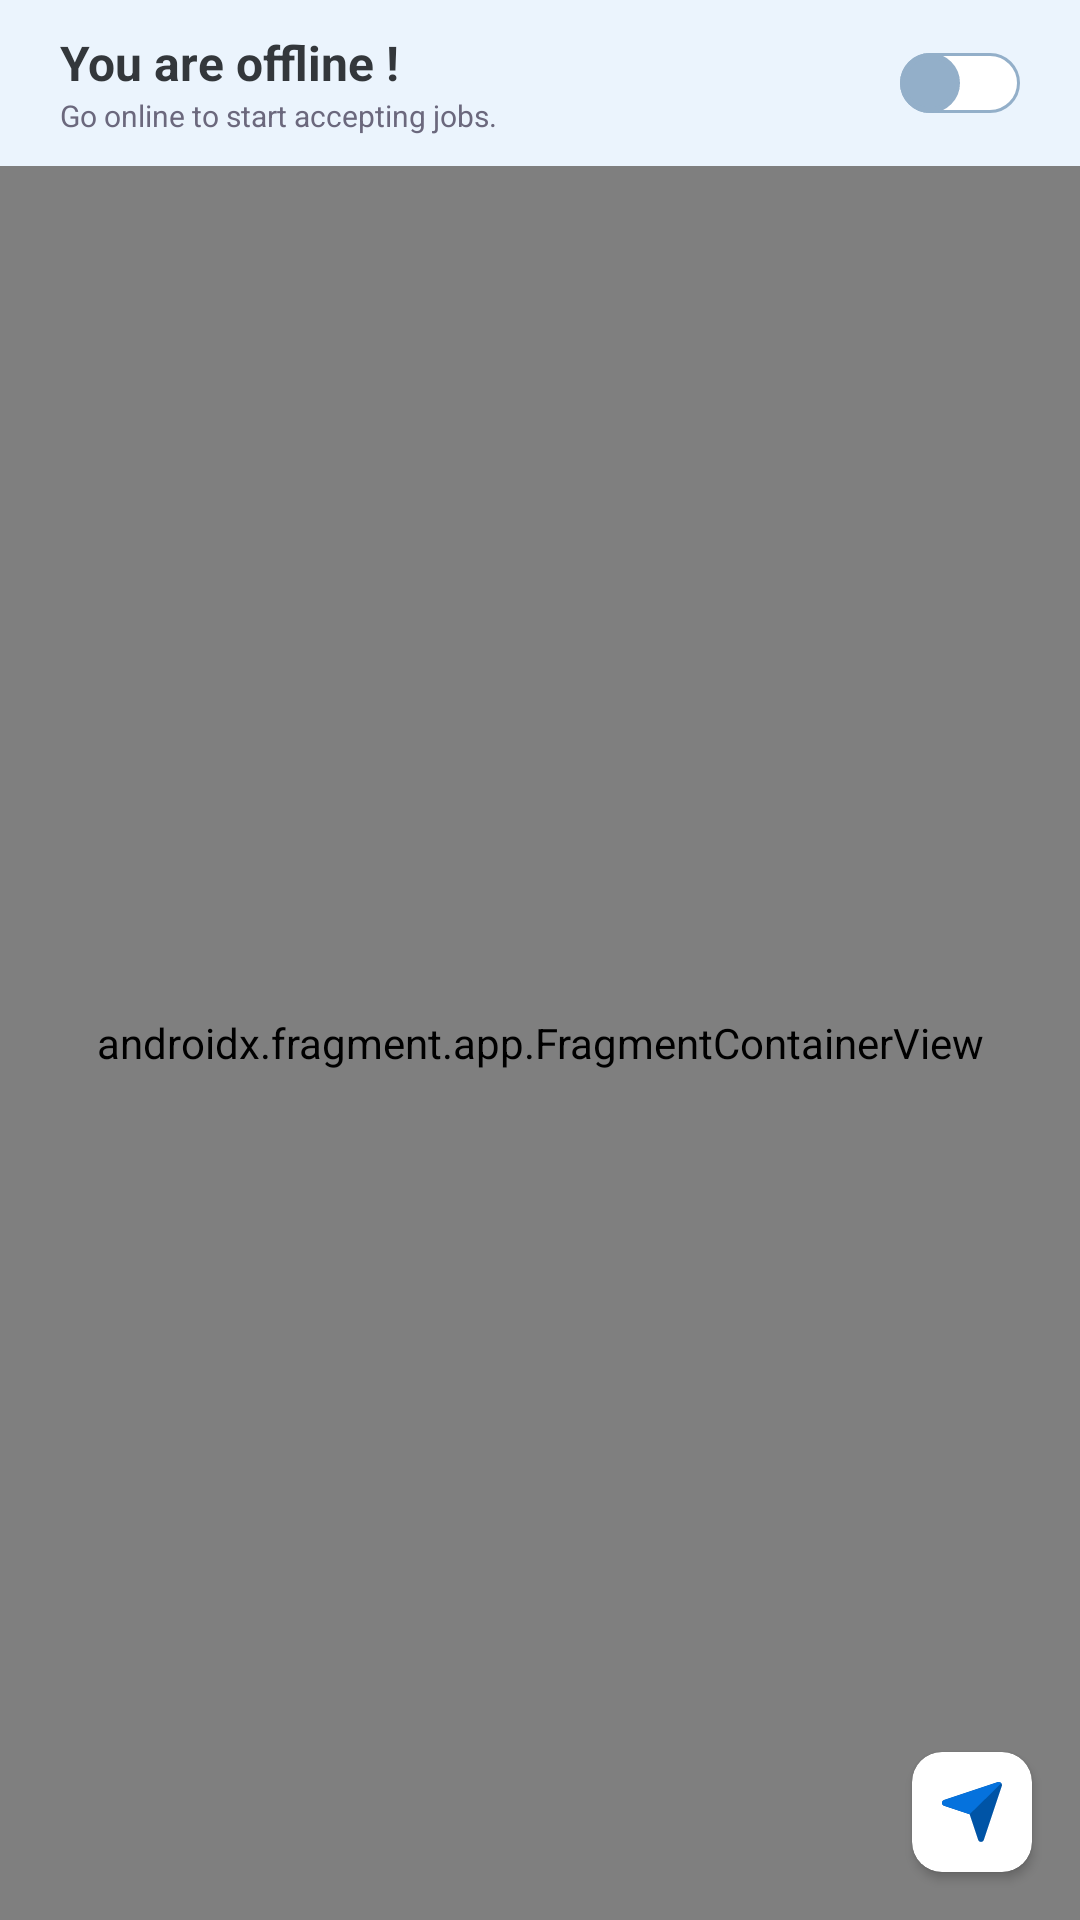

Locate icon controls on the screen. Image size 1080w x 1920h, boxes as Rect(x1, y1, x2, y2).
location: Rect(912, 1752, 1032, 1872)
